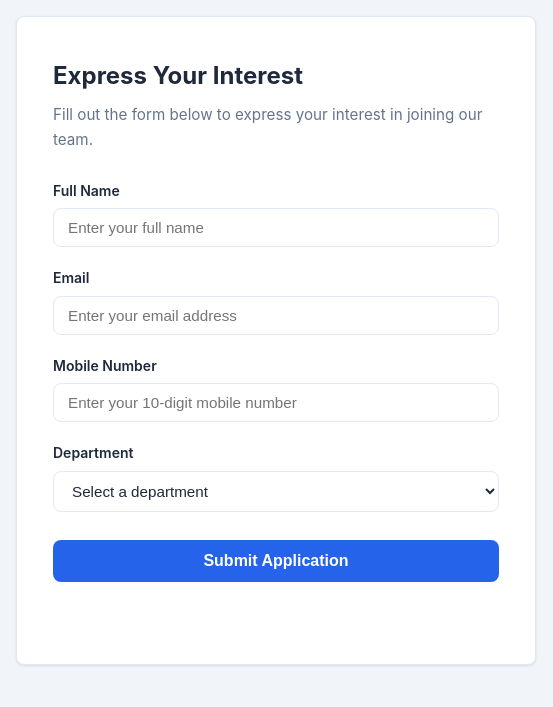
InterestForm › prevents duplicate email submission and shows error
Type "Another User" into the field labelled "Full Name". click: x=276, y=228
box: [53,208,499,247]
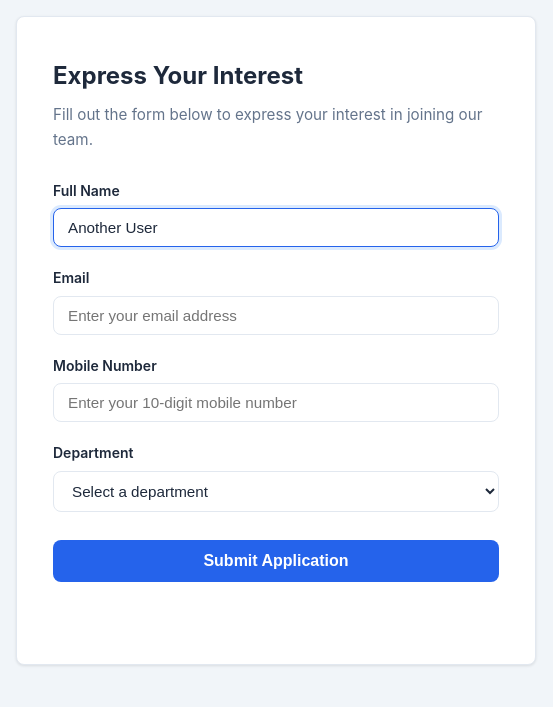
Type "duplicate@example.com" into the field labelled "Email". click: x=276, y=315
box: [53,296,499,335]
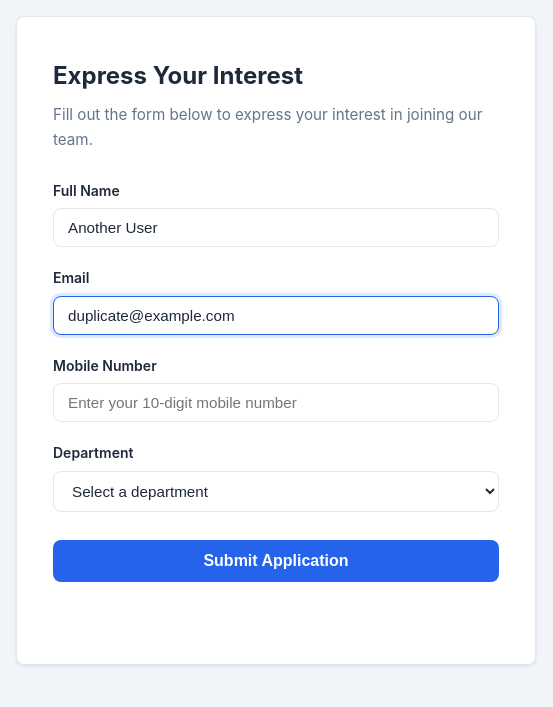
Type "9876543210" into the field labelled "Mobile Number". click: x=276, y=403
box: [53,383,499,422]
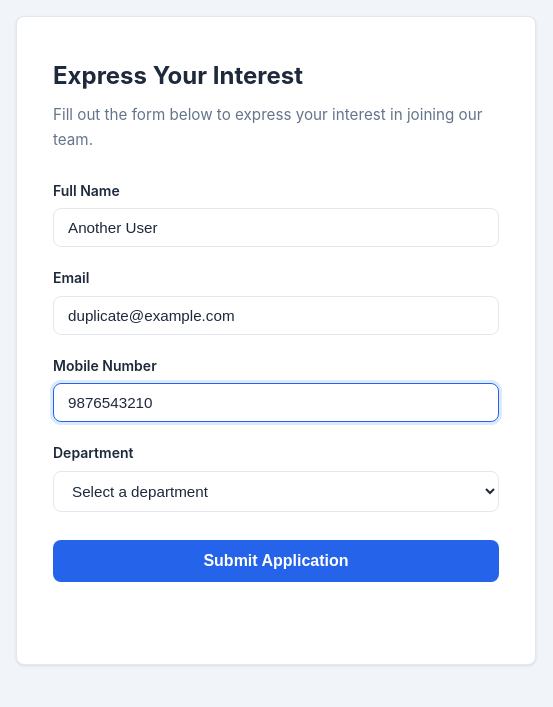
Select "Engineering" in the dropdown labelled "Department". click: x=276, y=491
box: [53,471,499,512]
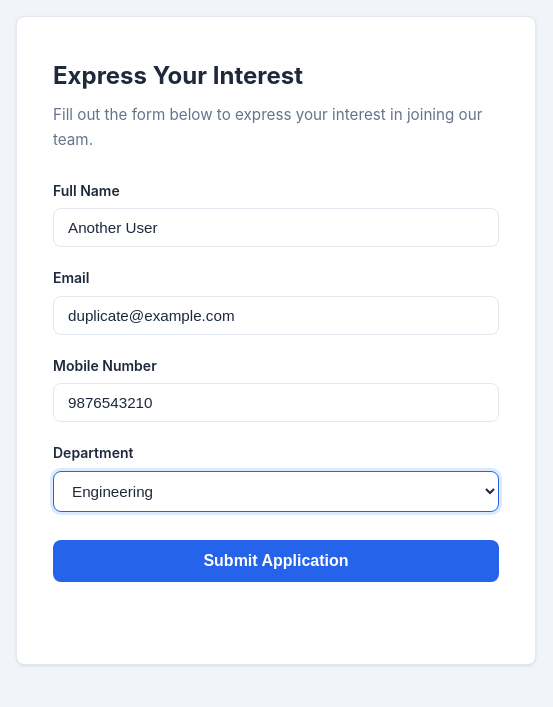
Click the button "Submit Application". click: x=276, y=561
box: [53,540,499,582]
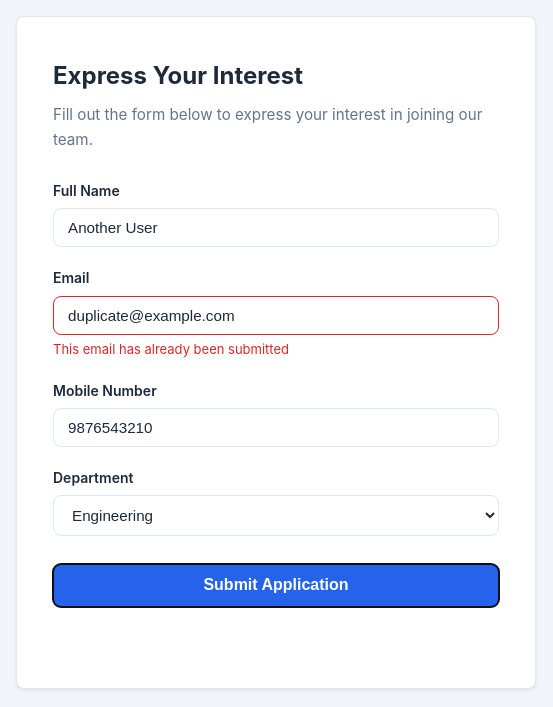
Result: the text "This email has already been submitted" is shown at [53,341,289,357]
